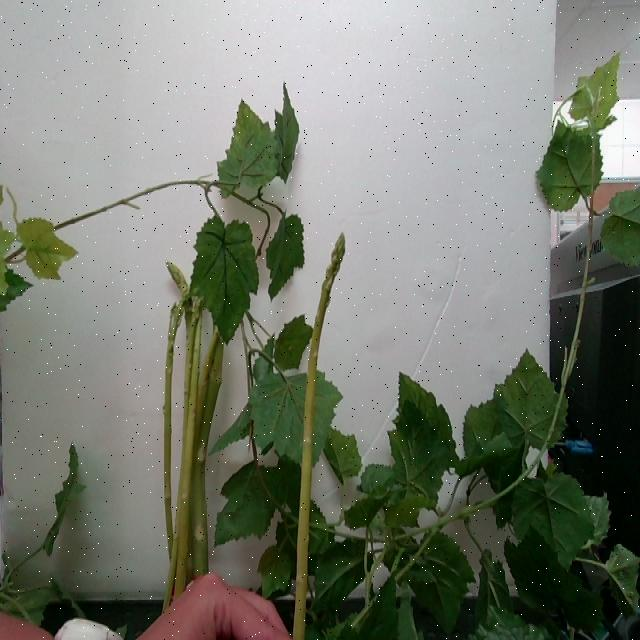aspargus: (295, 234, 345, 640)
